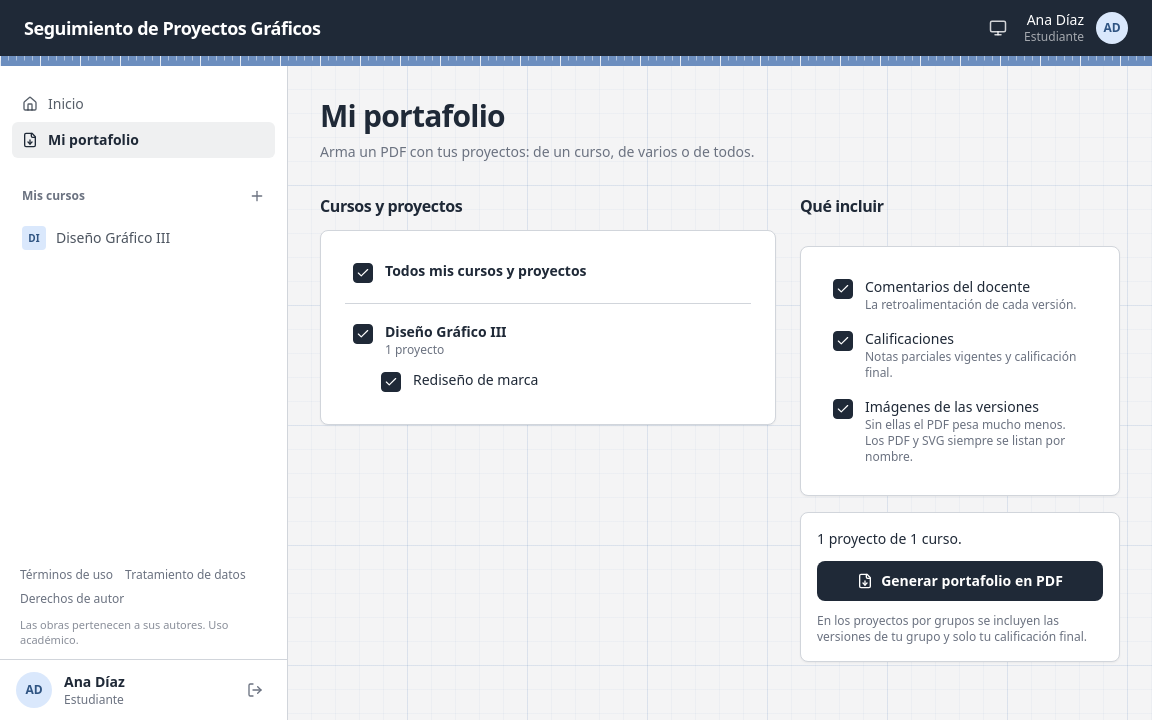
it: Mi portafolio › no deja generar sin proyectos elegidos
Step 1. Click the checkbox labelled "Todos mis cursos y proyectos" → (363, 273), box x1=353 y1=263 x2=373 y2=283
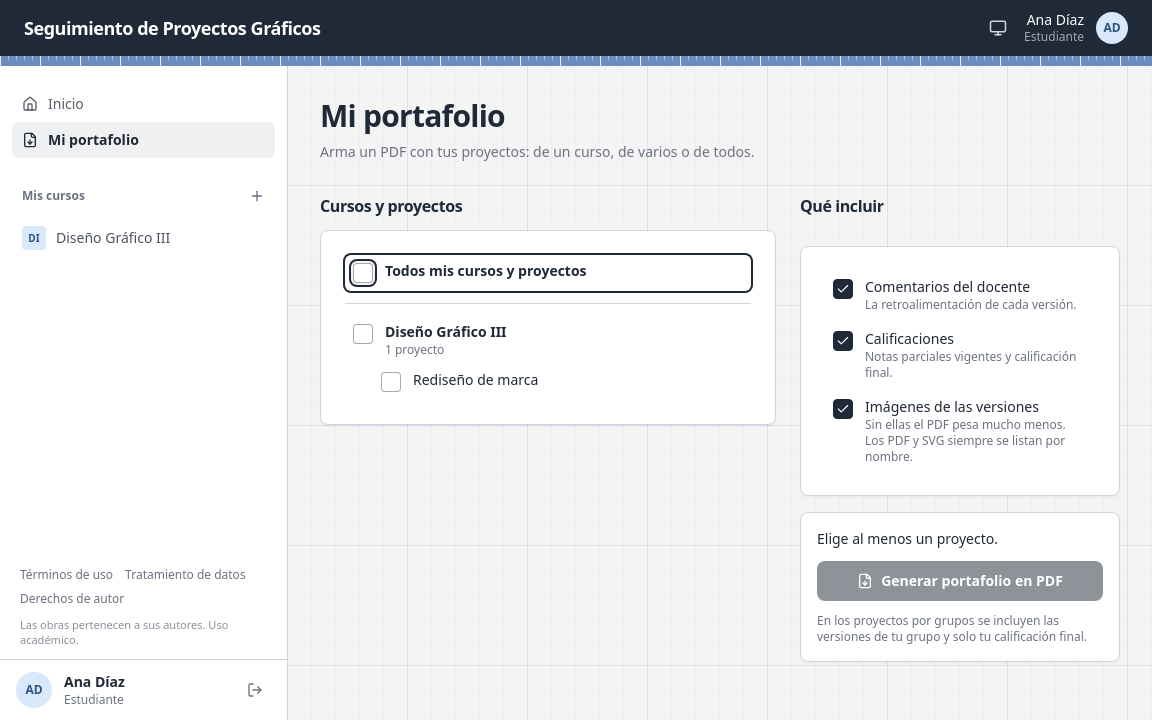
Now the text "Elige al menos un proyecto." is shown, box x1=817 y1=529 x2=998 y2=548
Now the button "Generar portafolio en PDF" is disabled, box x1=817 y1=561 x2=1103 y2=601
